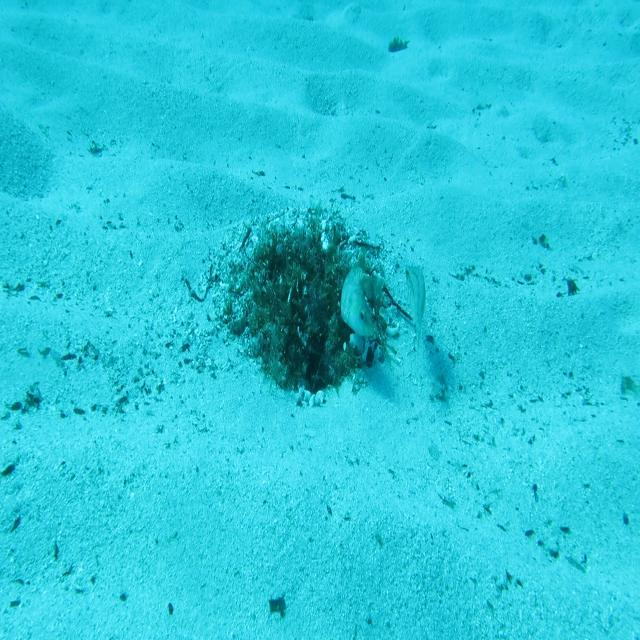DAN_CIRC: (336, 252, 388, 338)
core_nest: (287, 241, 333, 279)
female: (404, 264, 426, 364)
nest: (203, 193, 402, 414)
